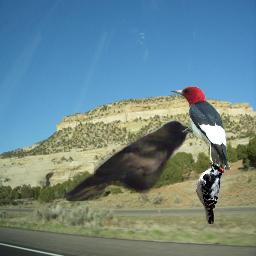Crow: (66, 119, 198, 201)
Woodpecker: (169, 86, 233, 170), (195, 160, 225, 224)
